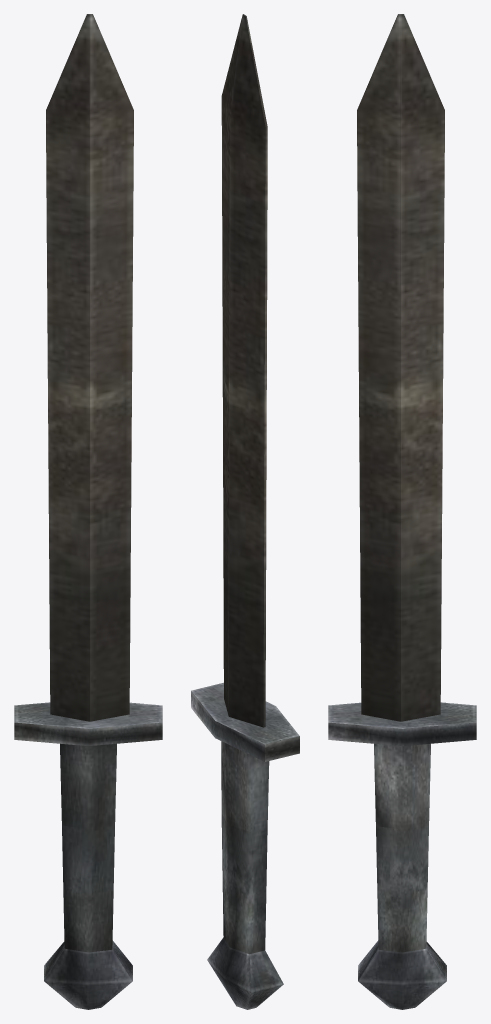
File: weapons_sword14.glb
3 renders of one model, left to right at view 1: azimuth 90°, elevation 25°; view 2: azimuth 210°, elevation 25°; view 3: azimuth 270°, elevation 25°, orthographic.
Parts seen in each view (by area): view 1: sword14; view 2: sword14; view 3: sword14.
Part boxes in pixels (bbox=[...]): sword14: bbox=[14, 14, 162, 1009]; sword14: bbox=[191, 14, 299, 1009]; sword14: bbox=[328, 14, 476, 1009].
Size of the model in its own units: 0.0569 by 0.8837 by 0.1197.
Materials: 1 (1 with a texture image).
